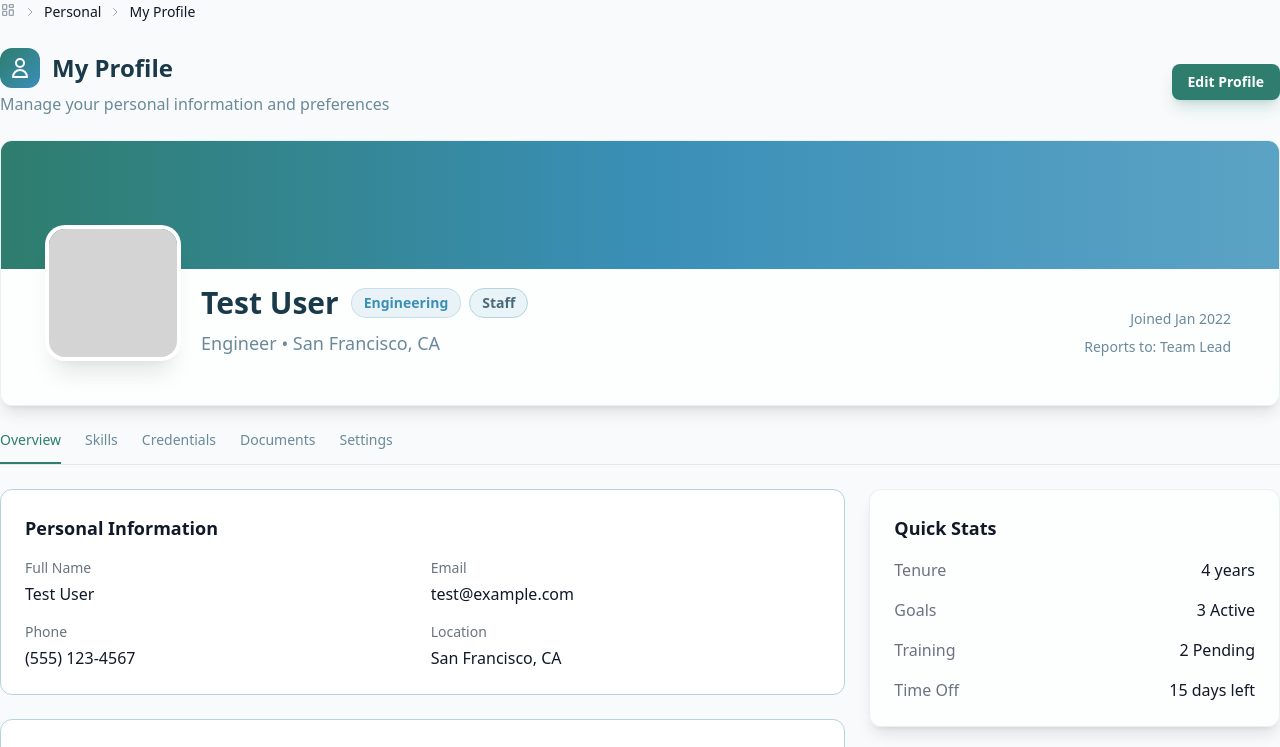
Test: Profile Component › opens add skill modal
# Navigate to Skills tab
Click the button "Skills" at (101, 447), box [85,430,118,464]
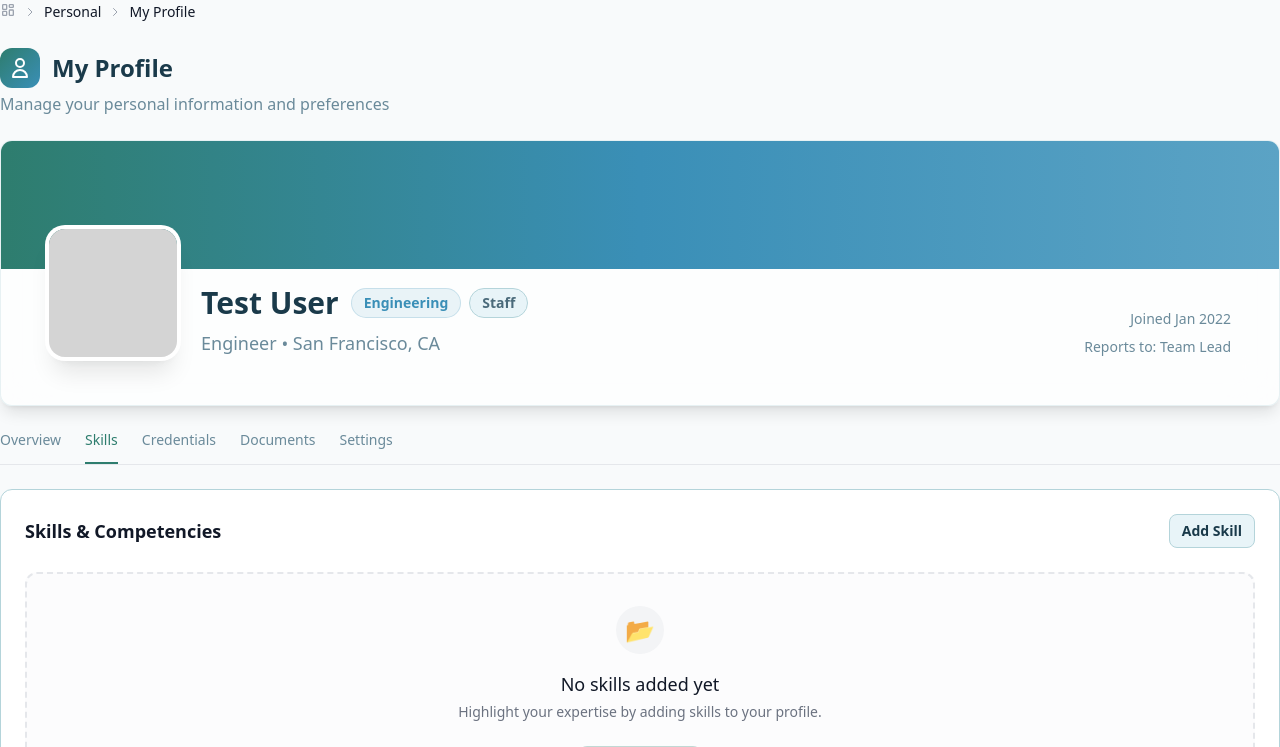
Click the button with test id "add-skill-button" at (1212, 531), box [1169,514,1255,548]
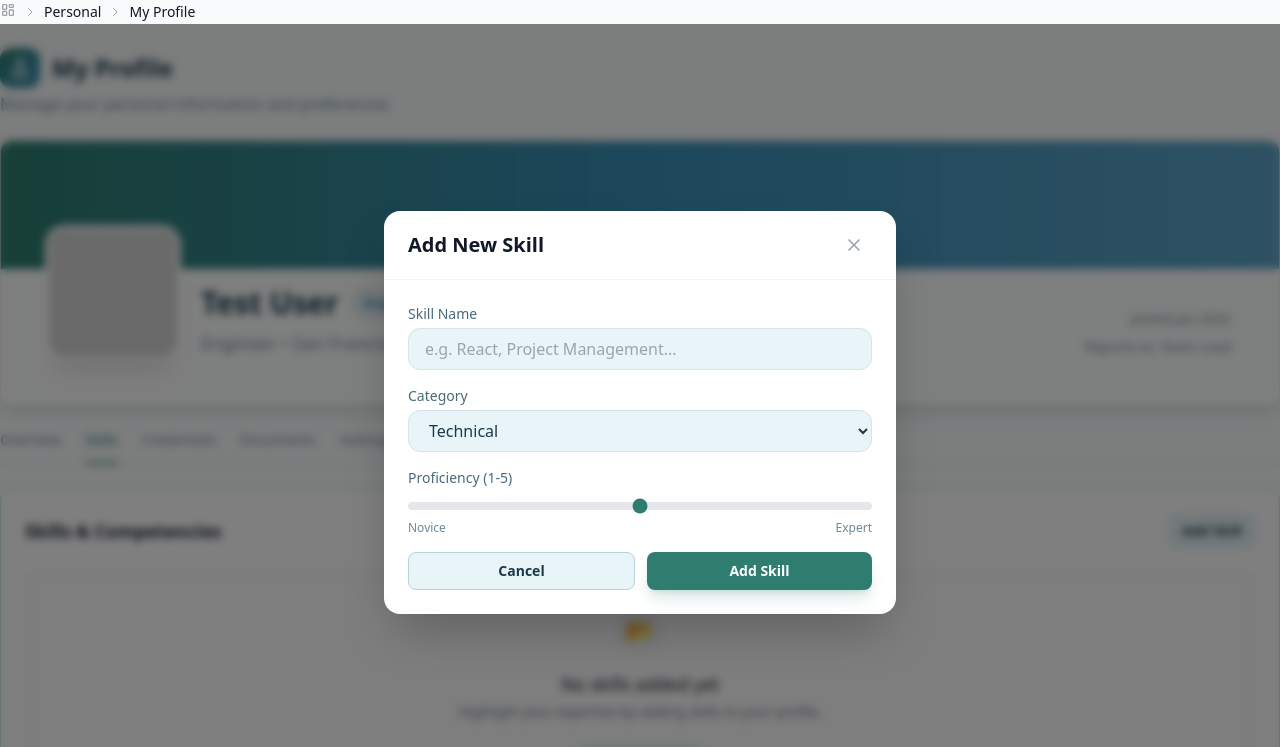
Expected: the heading "Add New Skill" is shown, [408,230,544,258]
